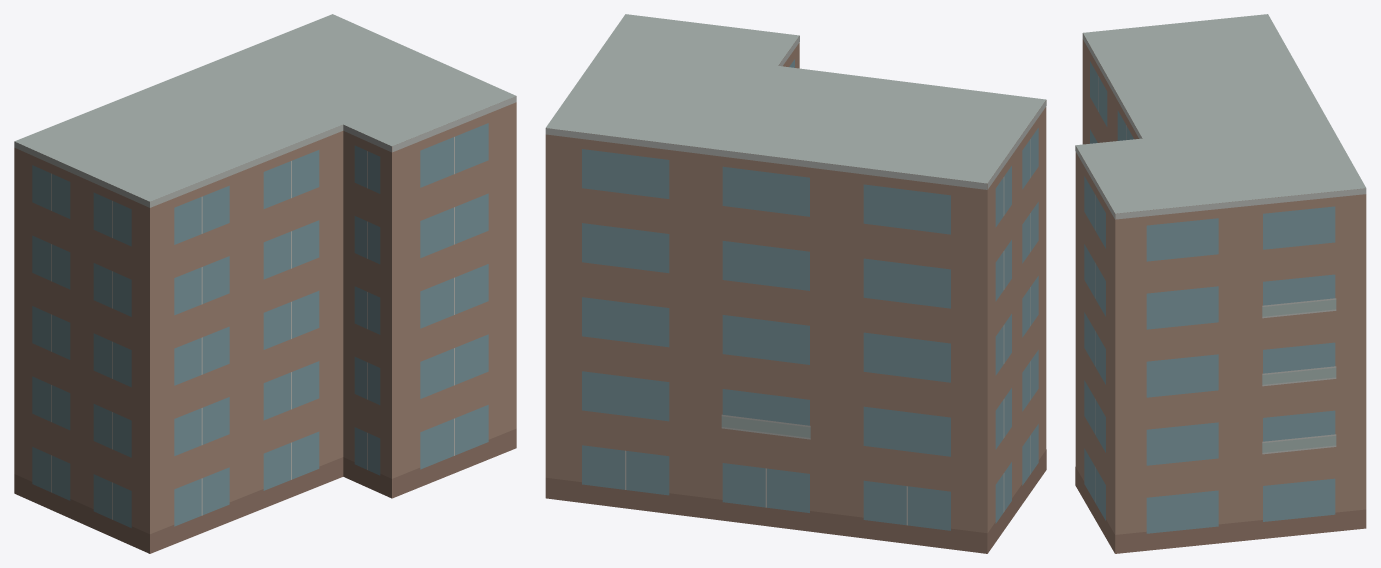
File: survey-upis-32579551.glb
3 views of the same model, side by side, from view 1: azimuth 30°, elevation 25°; view 2: azimuth 150°, elevation 25°; view 3: azimuth 270°, elevation 25° (orthographic). The views are drawn at different scales.
Parts seen in each view (by area): view 1: survey-upis-32579551.tmp; view 2: survey-upis-32579551.tmp; view 3: survey-upis-32579551.tmp.
Part boxes in pixels (x1,y1,x2,y2): survey-upis-32579551.tmp: [14, 14, 516, 553]; survey-upis-32579551.tmp: [545, 14, 1046, 553]; survey-upis-32579551.tmp: [1075, 14, 1366, 553].
Bounding box in the file's own units: 17.62 × 14 × 10.86.
